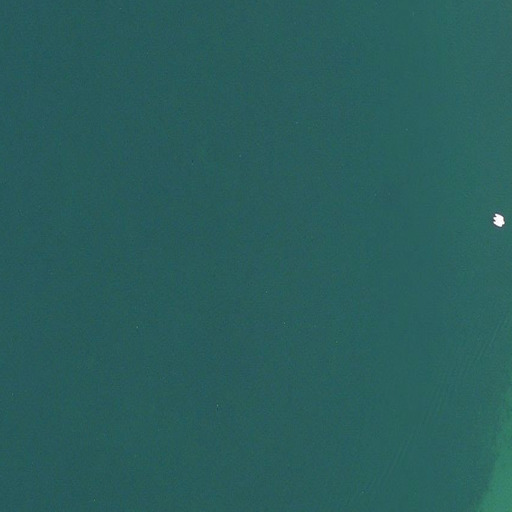ship: (491, 212, 507, 229)
